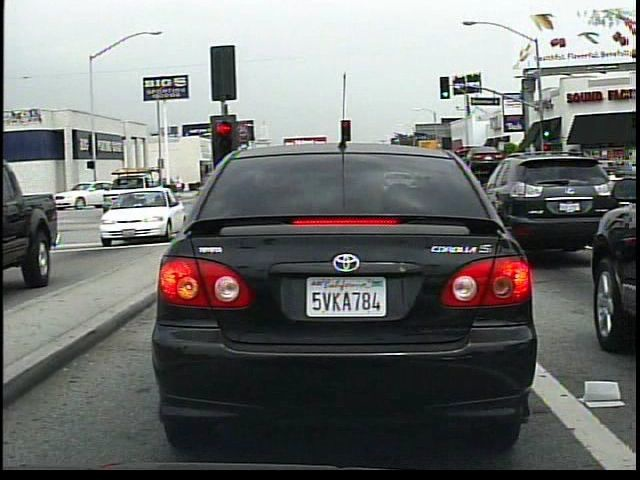person: (169, 170, 190, 195)
